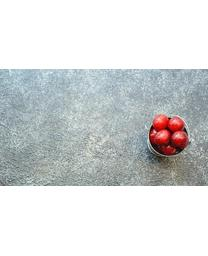cherry: (172, 131, 189, 149), (160, 138, 176, 156), (168, 116, 182, 131), (153, 116, 169, 129), (154, 131, 169, 143)
